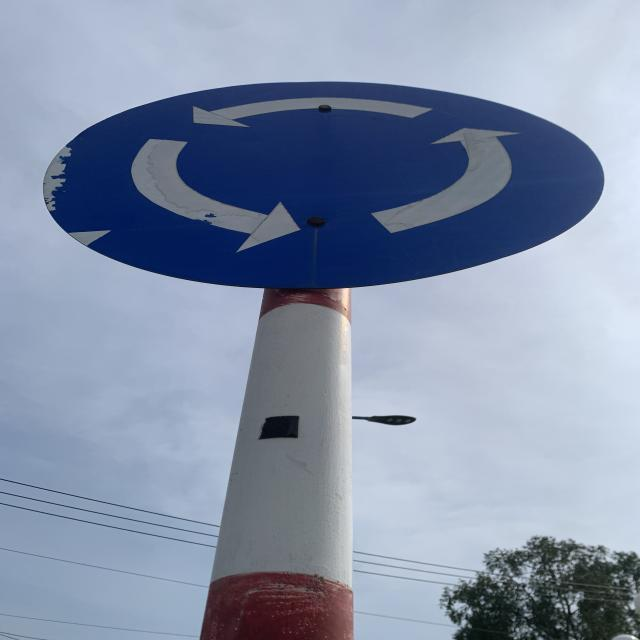Xe_Bus: (42, 78, 609, 292)
